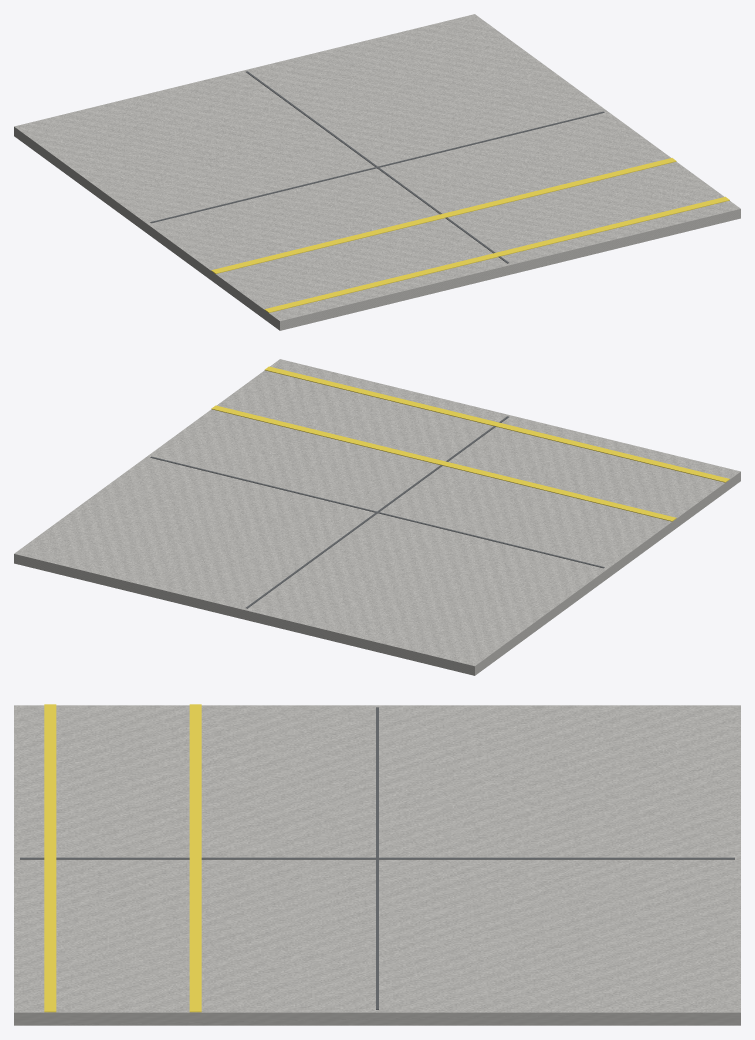
The model's file is concrete-floor-tile-with-walkway-lines-6-m.glb.
3 views of the same model, one above another, from view 1: azimuth 30°, elevation 25°; view 2: azimuth 150°, elevation 25°; view 3: azimuth 270°, elevation 25° (orthographic). The views are drawn at different scales.
Visible parts, largest first — view 1: machine-shop-and-factory-hall-floor-tile-marked; view 2: machine-shop-and-factory-hall-floor-tile-marked; view 3: machine-shop-and-factory-hall-floor-tile-marked.
Boxes of the visible parts, <box> form: machine-shop-and-factory-hall-floor-tile-marked: <box>14,14,740,330</box>; machine-shop-and-factory-hall-floor-tile-marked: <box>14,359,740,675</box>; machine-shop-and-factory-hall-floor-tile-marked: <box>14,704,740,1025</box>.
Size of the model in its own units: 6 by 0.1291 by 6.
Materials: 3 (1 with a texture image).
